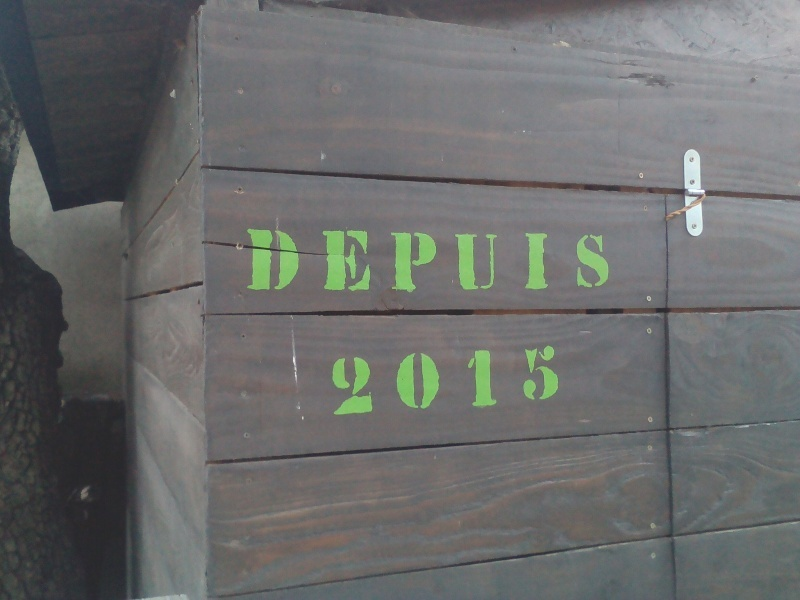text: (337, 343, 352, 423), (353, 343, 368, 423), (369, 343, 384, 423), (385, 343, 400, 423), (401, 343, 416, 423), (417, 343, 432, 423), (433, 343, 448, 423), (449, 343, 464, 423), (465, 343, 480, 423), (481, 343, 496, 423), (497, 343, 512, 423), (513, 343, 528, 423), (529, 343, 544, 423), (545, 343, 560, 423), (257, 229, 272, 295), (273, 229, 288, 295), (289, 229, 304, 295), (305, 229, 320, 295), (321, 229, 336, 295), (337, 229, 352, 295), (353, 229, 368, 295), (369, 229, 384, 295), (385, 229, 400, 295), (401, 229, 416, 295), (417, 229, 432, 295), (433, 229, 448, 295), (449, 229, 464, 295), (465, 229, 480, 295), (481, 229, 496, 295), (497, 229, 512, 295), (513, 229, 528, 295), (529, 229, 544, 295), (545, 229, 560, 295), (561, 229, 576, 295), (577, 229, 592, 295), (593, 229, 608, 295), (247, 229, 256, 295), (331, 343, 336, 423), (561, 343, 566, 423), (609, 229, 612, 295)
